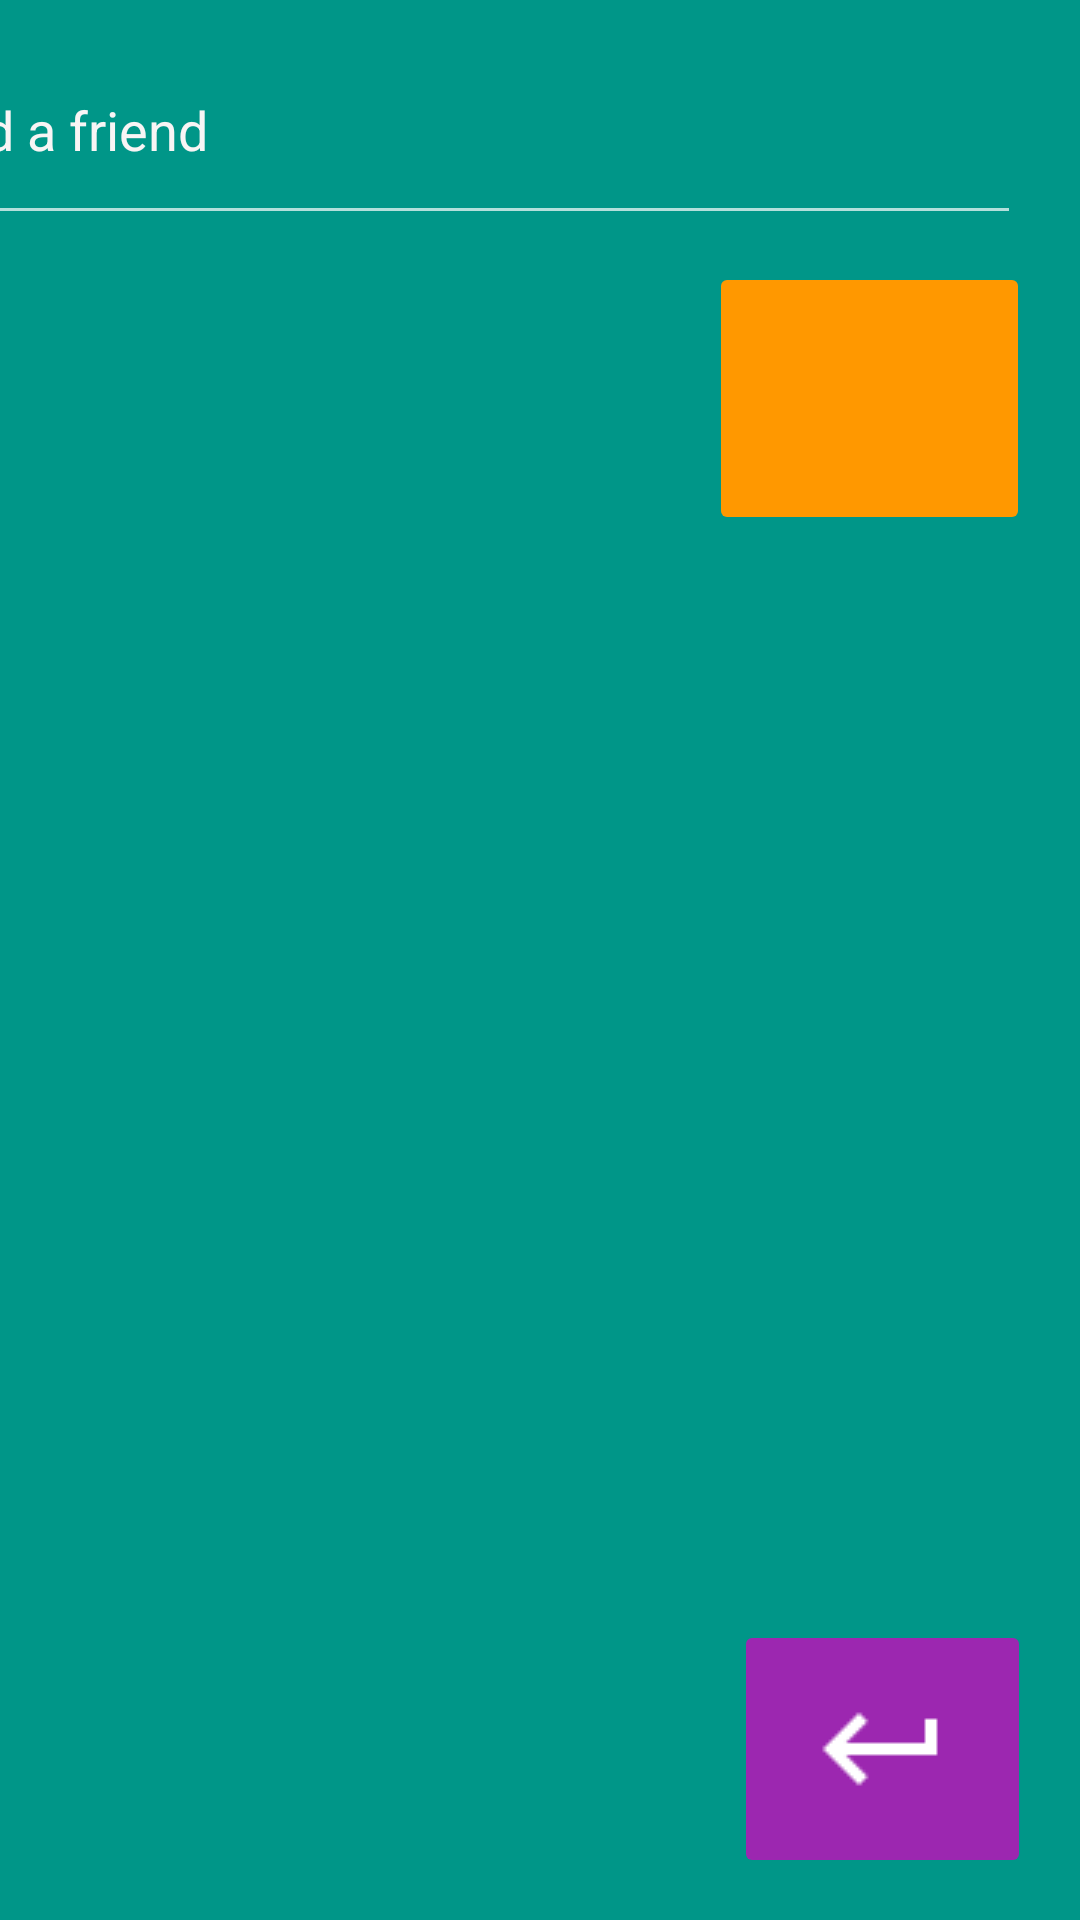

Screen size 1080px×1920px. Icon name, then its center in pixels as [x,y]:
keyboard return: [882,1749]
